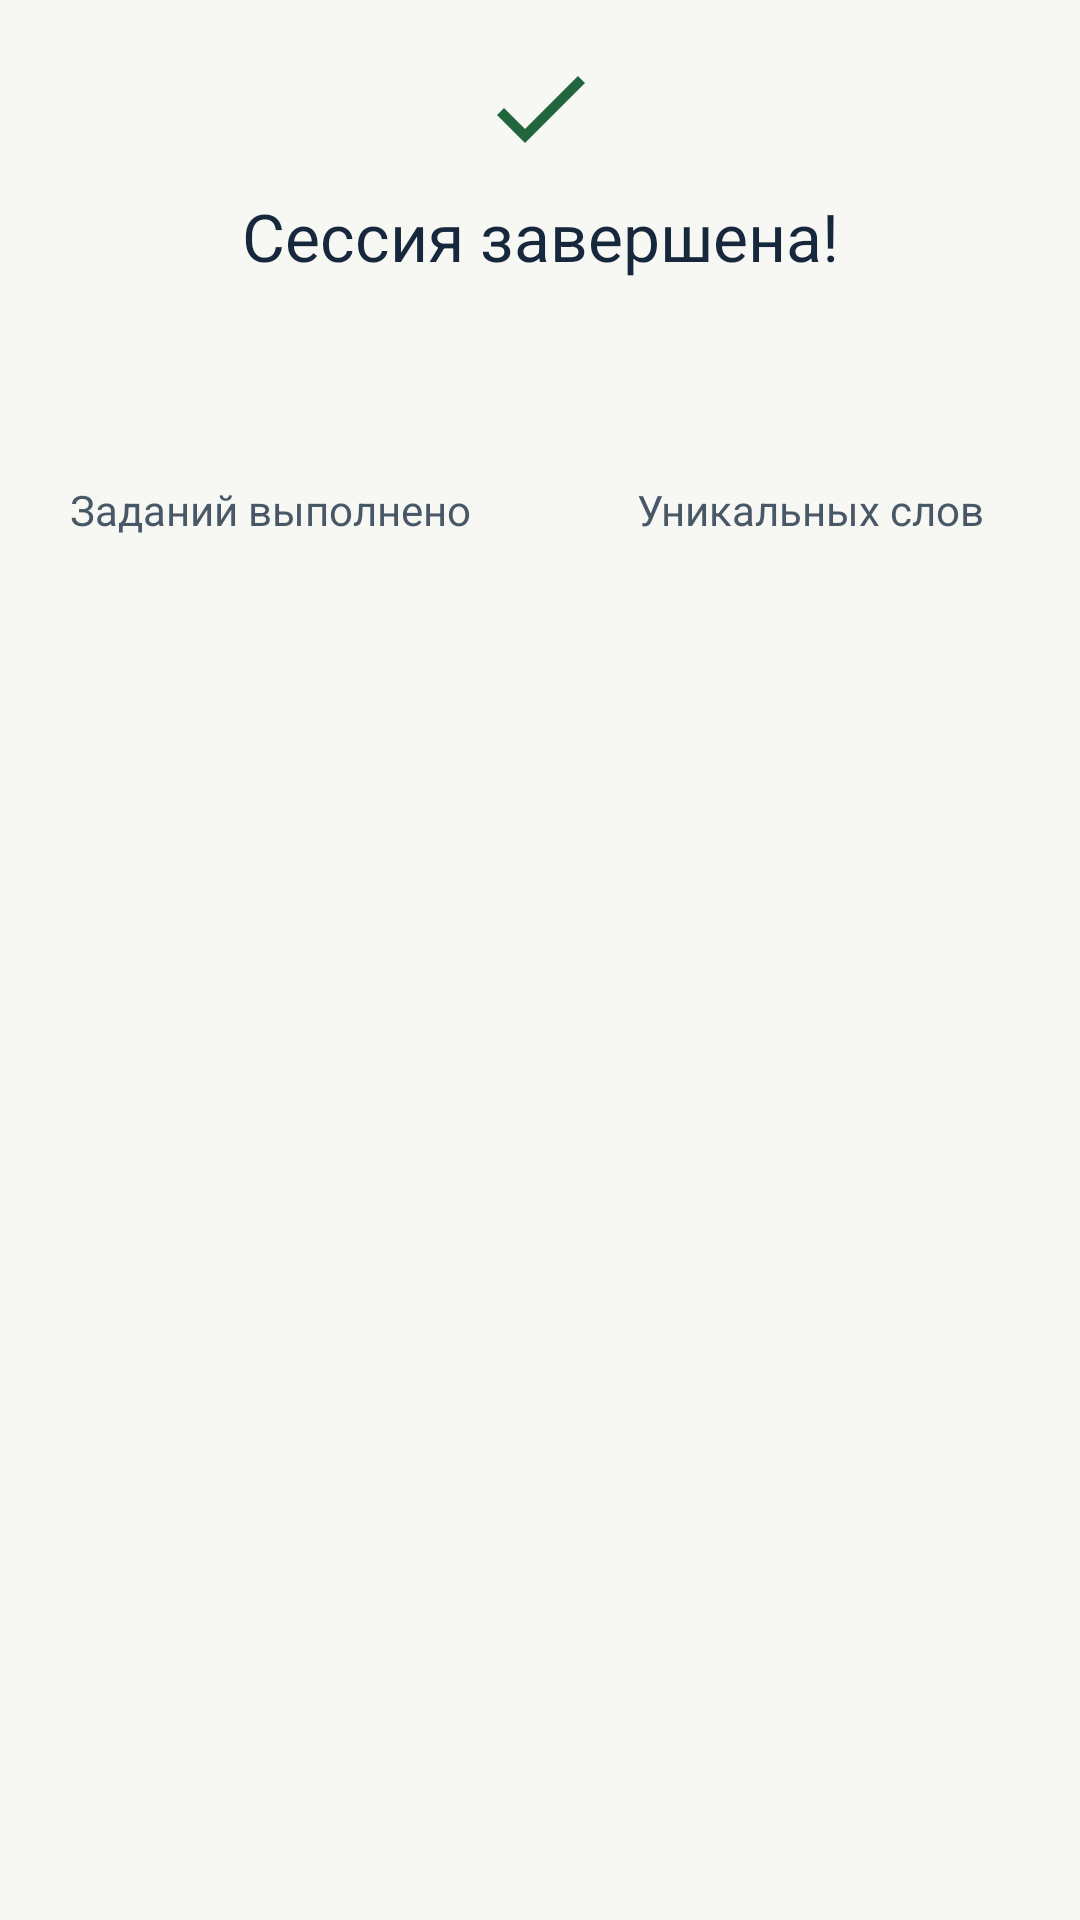

Icon bounding boxes for this 1080px×1920px phone screenshot, format bbox=(x1, y1, x2, y2):
check: bbox=(497, 76, 585, 143)
